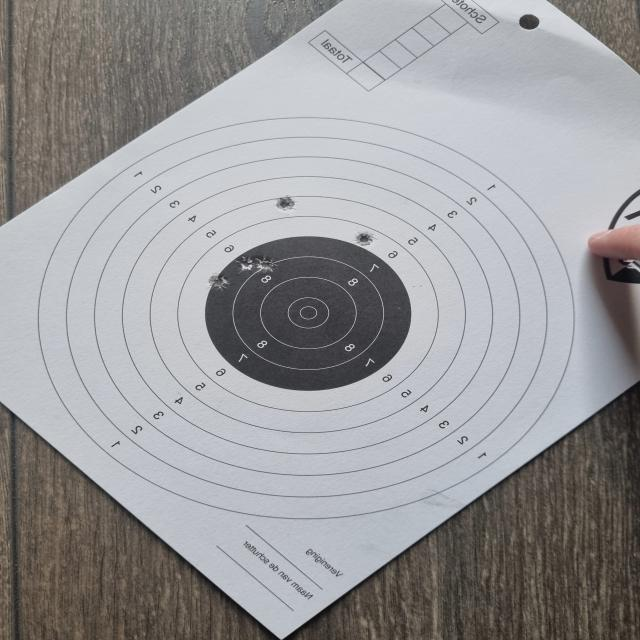5: (276, 197, 296, 211)
6: (355, 232, 379, 246)
7: (206, 273, 230, 291), (234, 256, 255, 273)
8: (252, 256, 278, 272)
Target: (36, 114, 573, 519)
black_contour: (203, 235, 414, 391)
